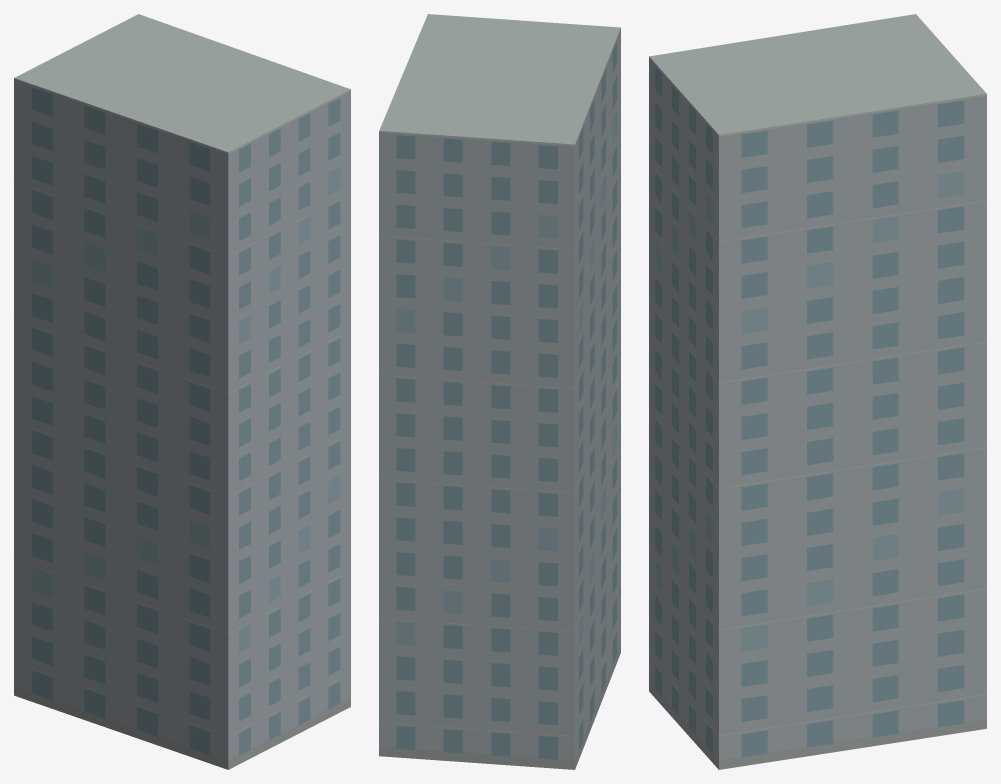
The model's file is residential-e202fa84-fe62-4e75-ba64-b988bb055e9f.glb.
The picture shows the model from 3 angles, left to right: view 1: azimuth 30°, elevation 25°; view 2: azimuth 150°, elevation 25°; view 3: azimuth 270°, elevation 25°; orthographic projection. The views are drawn at different scales.
Visible parts, largest first — view 1: residential-e202fa84-fe62-4e75-ba64-b988bb055e9f.tmp; view 2: residential-e202fa84-fe62-4e75-ba64-b988bb055e9f.tmp; view 3: residential-e202fa84-fe62-4e75-ba64-b988bb055e9f.tmp.
Part boxes in pixels (left/top/right/bottom): residential-e202fa84-fe62-4e75-ba64-b988bb055e9f.tmp: left=14, top=14, right=350, bottom=769; residential-e202fa84-fe62-4e75-ba64-b988bb055e9f.tmp: left=379, top=14, right=620, bottom=769; residential-e202fa84-fe62-4e75-ba64-b988bb055e9f.tmp: left=649, top=14, right=986, bottom=769.
Size of the model in its own units: 33.51 by 82 by 39.54.
